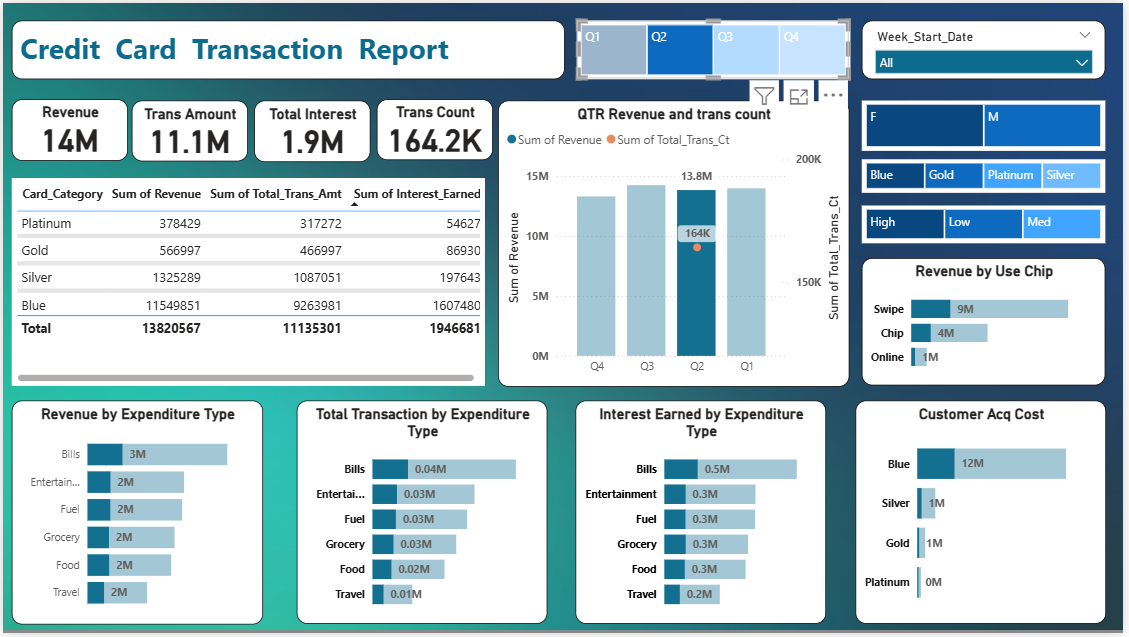

The dashboard page shown, as its layout file describes it:
{"tool":"powerbi","page":{"name":"cc Transaction","canvas":[1280,720],"ordinal":0},"visuals":[{"type":"textbox","box":[9.7,19.3,632.2,67.6],"z":0},{"type":"lineStackedColumnComboChart","title":"QTR Revenue and trans count","fields":{"Category":["ccdb cc_detail.Qtr"],"Y":["Sum(ccdb cc_detail.Revenue)"],"Y2":["Sum(ccdb cc_detail.Total_Trans_Ct)"]},"box":[565.8,111,401.7,326.9],"z":1000},{"type":"barChart","title":" Revenue by Expenditure Type","fields":{"Y":["Sum(ccdb cc_detail.Revenue)"],"Category":["ccdb cc_detail.Exp_Type"]},"box":[9.7,453.6,287.1,255.8],"z":2000},{"type":"barChart","title":"Interest Earned by Expenditure Type","fields":{"Category":["ccdb cc_detail.Exp_Type"],"Y":["Sum(ccdb cc_detail.Interest_Earned)"]},"box":[654.5,454.2,286.8,255.2],"z":3000},{"type":"barChart","title":"Customer Acq Cost","fields":{"Y":["Sum(ccdb cc_detail.Revenue)"],"Category":["ccdb cc_detail.Card_Category"]},"box":[974.3,454.2,286.8,255.2],"z":4000},{"type":"barChart","title":" Revenue by Use Chip","fields":{"Y":["Sum(ccdb cc_detail.Revenue)"],"Category":["ccdb cc_detail.Use_Chip"]},"box":[982,292,278.7,146],"z":5000},{"type":"tableEx","fields":{"Values":["ccdb cc_detail.Card_Category","Sum(ccdb cc_detail.Revenue)","Sum(ccdb cc_detail.Total_Trans_Amt)","Sum(ccdb cc_detail.Interest_Earned)"]},"box":[9.7,200.3,540.5,237.7],"z":6000},{"type":"card","title":"Revenue","fields":{"Values":["Sum(ccdb cc_detail.Revenue)"]},"box":[9.4,109.4,133,70.3],"z":7000},{"type":"card","title":"Trans Amount","fields":{"Values":["Sum(ccdb cc_detail.Total_Trans_Amt)"]},"box":[147.2,111,132.7,70],"z":8000},{"type":"card","title":"Total Interest","fields":{"Values":["Sum(ccdb cc_detail.Interest_Earned)"]},"box":[287.5,110.9,133,70.3],"z":9000},{"type":"card","title":"Trans Count","fields":{"Values":["Sum(ccdb cc_detail.Total_Trans_Ct)"]},"box":[427.1,109.8,133,70],"z":10000},{"type":"slicer","fields":{"Values":["ccdb cc_detail.Week_Start_Date"]},"box":[982,19.3,278.7,67.6],"z":11000},{"type":"treemap","fields":{"Group":["ccdb cc_detail.Qtr"],"Values":["Avg(ccdb cust_detail.Client_Num)"]},"box":[655.1,19.3,312.5,67.6],"z":12000},{"type":"treemap","fields":{"Group":["ccdb cust_detail.Gender"],"Values":["Avg(ccdb cust_detail.Client_Num)"]},"box":[982,111,278.7,57.9],"z":13000},{"type":"treemap","fields":{"Group":["ccdb cc_detail.Card_Category"],"Values":["Avg(ccdb cust_detail.Client_Num)"]},"box":[982,178.6,278.7,38.6],"z":14000},{"type":"treemap","fields":{"Group":["ccdb cust_detail.IncomeGroup"],"Values":["Avg(ccdb cust_detail.Client_Num)"]},"box":[982,231.6,278.7,43.4],"z":15000},{"type":"barChart","title":"Total Transaction by Expenditure Type","fields":{"Category":["ccdb cc_detail.Exp_Type"],"Y":["Sum(ccdb cc_detail.Total_Trans_Ct)"]},"box":[336.2,454.2,286.8,255.2],"z":16000}]}

Visuals, with their boxes in screenshot pixels (x1, y1, x2, y2), scaled from the page's 1280x720 canvas onto the 1129x637 screenshot:
textbox: bbox=[9, 17, 566, 77]
"QTR Revenue and trans count" lineStackedColumnComboChart: bbox=[499, 98, 853, 387]
" Revenue by Expenditure Type" barChart: bbox=[9, 401, 262, 628]
"Interest Earned by Expenditure Type" barChart: bbox=[577, 402, 830, 628]
"Customer Acq Cost" barChart: bbox=[859, 402, 1112, 628]
" Revenue by Use Chip" barChart: bbox=[866, 258, 1112, 388]
tableEx - ccdb cc_detail.Card_Category x Sum(ccdb cc_detail.Revenue): bbox=[9, 177, 485, 388]
"Revenue" card: bbox=[8, 97, 126, 159]
"Trans Amount" card: bbox=[130, 98, 247, 160]
"Total Interest" card: bbox=[254, 98, 371, 160]
"Trans Count" card: bbox=[377, 97, 494, 159]
slicer - ccdb cc_detail.Week_Start_Date: bbox=[866, 17, 1112, 77]
treemap - ccdb cc_detail.Qtr x Avg(ccdb cust_detail.Client_Num): bbox=[578, 17, 853, 77]
treemap - ccdb cust_detail.Gender x Avg(ccdb cust_detail.Client_Num): bbox=[866, 98, 1112, 149]
treemap - ccdb cc_detail.Card_Category x Avg(ccdb cust_detail.Client_Num): bbox=[866, 158, 1112, 192]
treemap - ccdb cust_detail.IncomeGroup x Avg(ccdb cust_detail.Client_Num): bbox=[866, 205, 1112, 243]
"Total Transaction by Expenditure Type" barChart: bbox=[297, 402, 550, 628]
